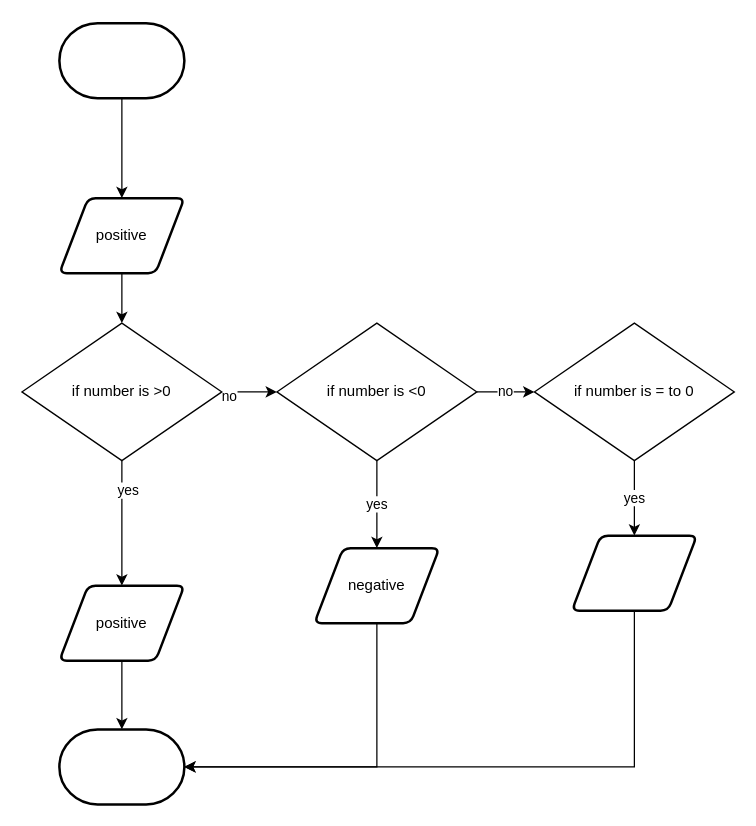
Some shapes in this 756 by 826 pixel diagram are drawn without their labels. Here are the shapes that lost their labels. From the top down, the centre of each, then its label:
At pixel 121 60: "start".
At pixel 634 572: "zero".
At pixel 121 766: "stop".
